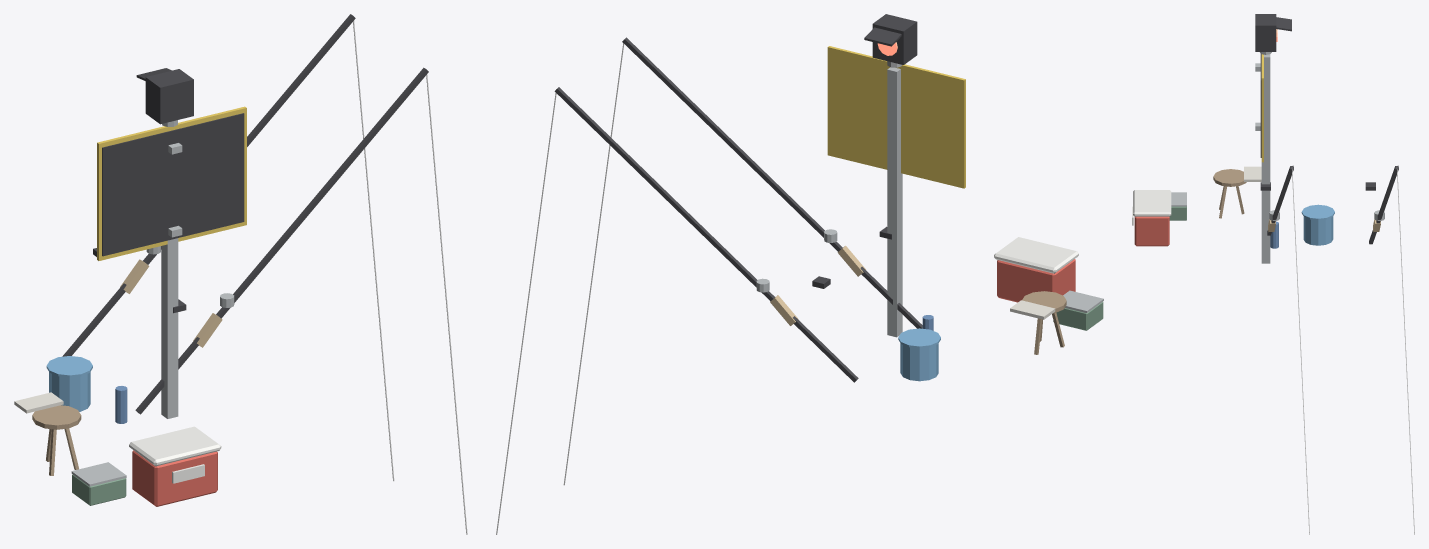
File: swing_kit.glb
The picture shows the model from 3 angles, left to right: view 1: azimuth 30°, elevation 25°; view 2: azimuth 150°, elevation 25°; view 3: azimuth 270°, elevation 25°; orthographic projection. The views are drawn at different scales.
Parts seen in each view (by area): view 1: sw_signpost_mesh, sw_pitch_mesh; view 2: sw_signpost_mesh, sw_pitch_mesh; view 3: sw_pitch_mesh, sw_signpost_mesh.
Part boxes in pixels (left/top/right/bottom): sw_signpost_mesh: left=97, top=68, right=246, bottom=418; sw_pitch_mesh: left=14, top=14, right=467, bottom=534; sw_signpost_mesh: left=827, top=14, right=965, bottom=337; sw_pitch_mesh: left=496, top=37, right=1103, bottom=534; sw_pitch_mesh: left=1132, top=165, right=1414, bottom=534; sw_signpost_mesh: left=1255, top=14, right=1291, bottom=263.
Bounding box in the file's own units: 4.6 × 5.05 × 3.23.
